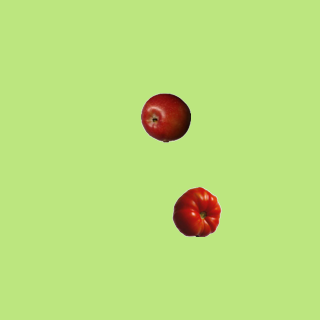Apple Braeburn: (140, 92, 190, 142)
Tomato 3: (171, 186, 221, 236)
